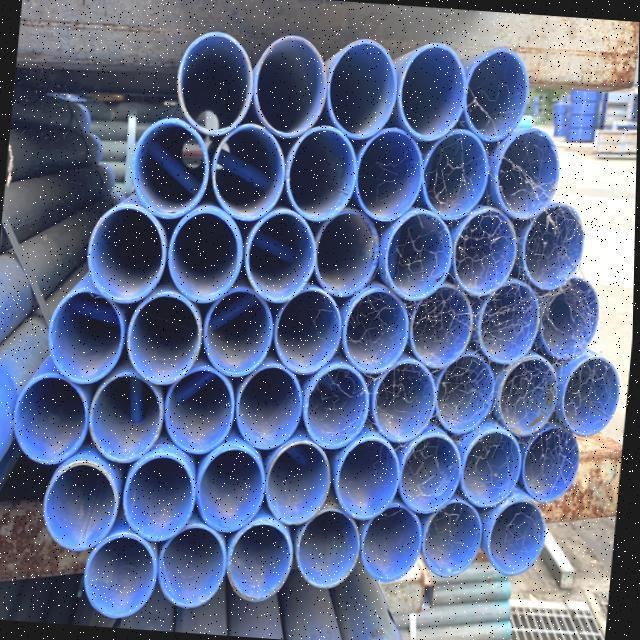pipe: (245, 40, 330, 143), (127, 120, 210, 223), (175, 36, 256, 140), (41, 289, 128, 384), (87, 206, 169, 306), (326, 44, 400, 145), (455, 53, 534, 146), (128, 295, 206, 388), (287, 127, 359, 227), (350, 132, 424, 228), (167, 212, 243, 305), (17, 375, 92, 468), (162, 372, 241, 460), (396, 47, 464, 149), (380, 215, 456, 306), (212, 127, 283, 224), (92, 376, 166, 466), (245, 211, 316, 304), (123, 456, 196, 546), (203, 291, 276, 378), (46, 465, 119, 552), (404, 285, 473, 377), (492, 131, 560, 224), (86, 533, 159, 619), (298, 368, 370, 455), (315, 210, 383, 300), (275, 289, 345, 376), (449, 214, 516, 304), (235, 367, 302, 456), (339, 293, 410, 376), (196, 452, 266, 536), (421, 137, 487, 225), (521, 203, 586, 292), (337, 436, 403, 523), (263, 445, 330, 530), (158, 531, 228, 612), (227, 522, 296, 603), (298, 510, 367, 590), (400, 432, 464, 516), (372, 368, 436, 451), (457, 432, 521, 514), (479, 285, 540, 369), (435, 358, 497, 440), (361, 503, 423, 585), (499, 355, 560, 438), (421, 502, 485, 581), (562, 357, 620, 444), (542, 281, 601, 363), (520, 427, 578, 509), (486, 505, 546, 583)
